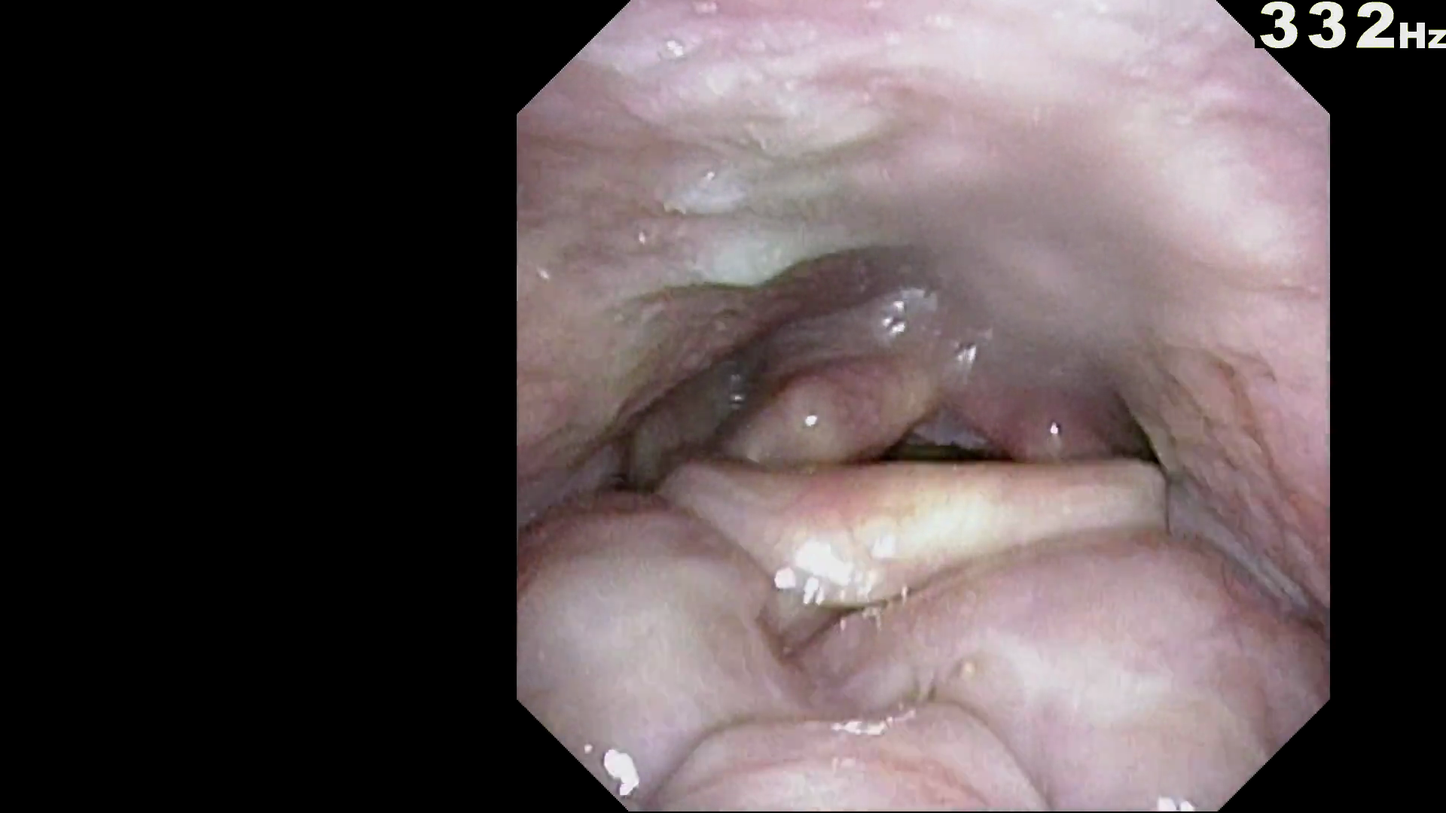epiglottis: (637, 452, 1153, 600)
trachea: (859, 417, 982, 514)
